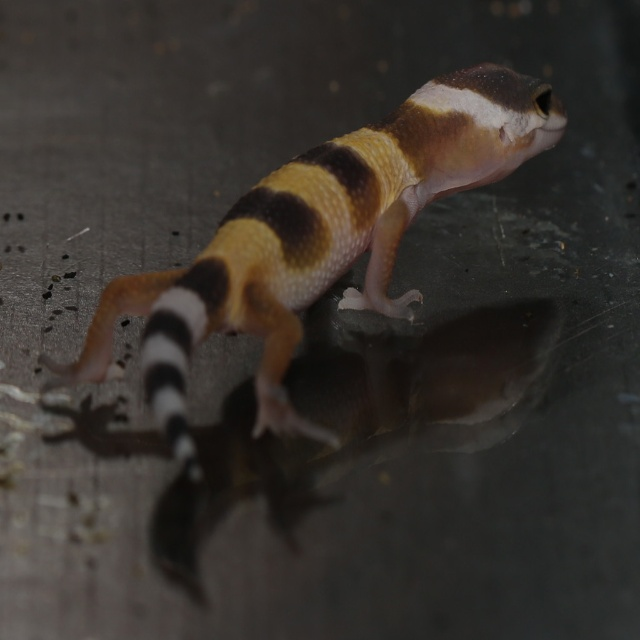Lizard: (35, 35, 566, 530)
